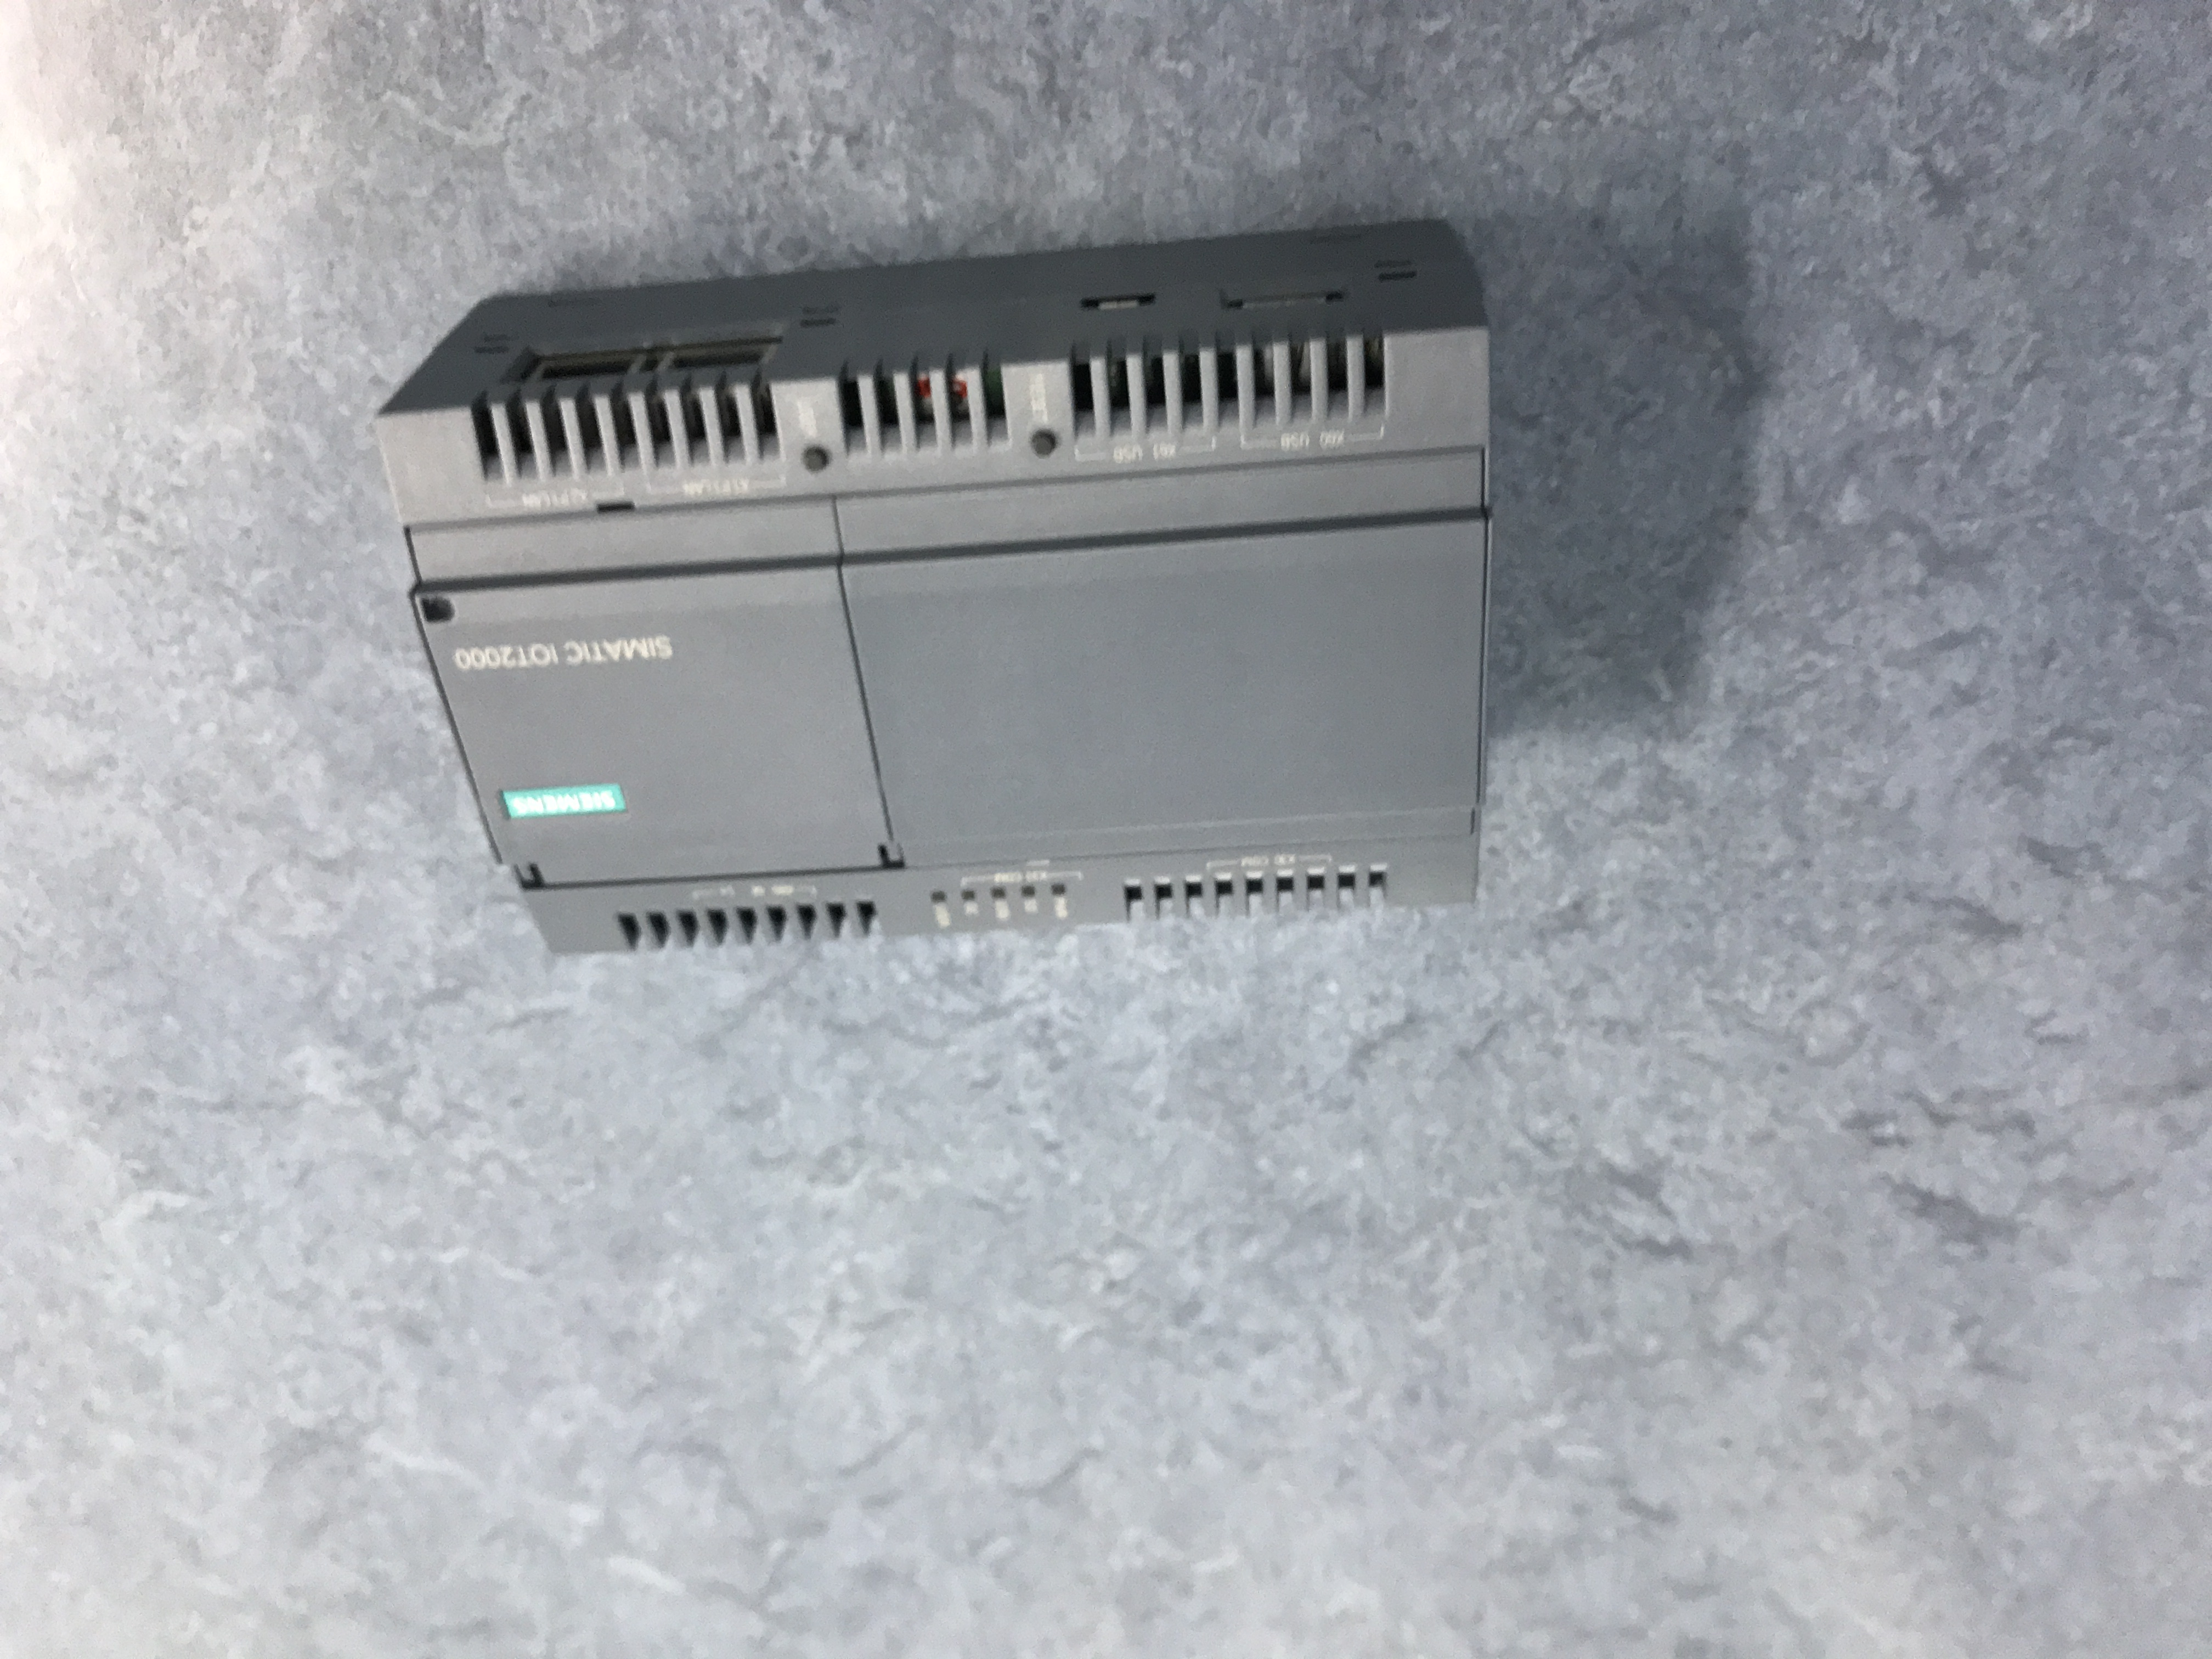device: (373, 216, 1496, 958)
